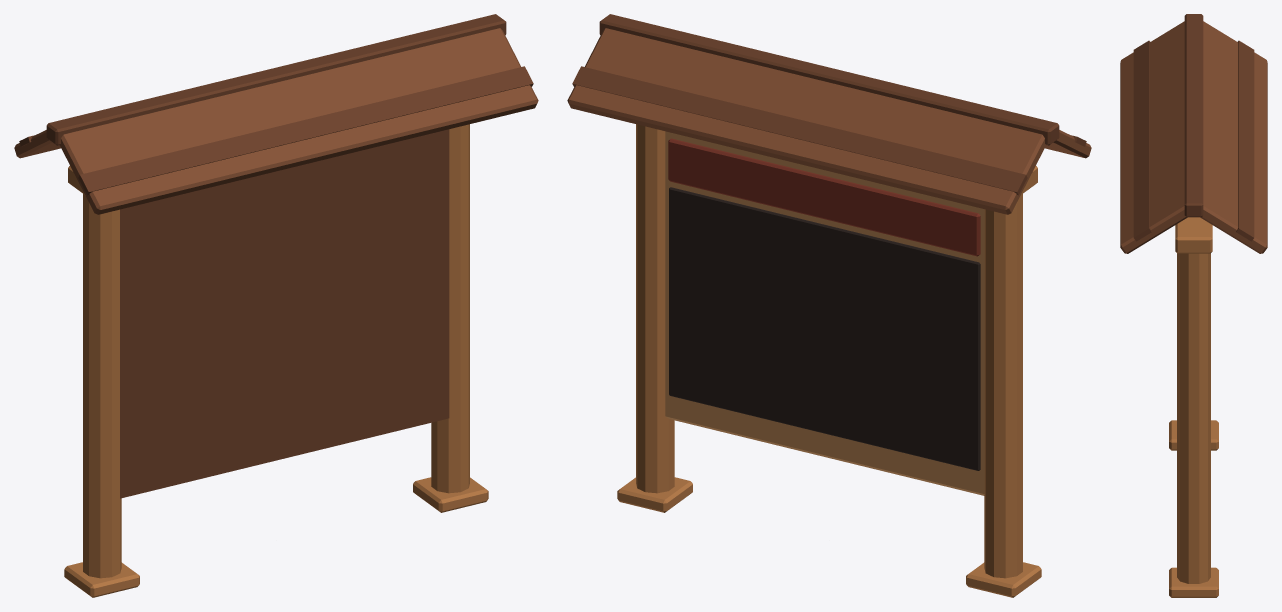
The model's file is leaderboard.glb.
3 renders of one model, left to right at view 1: azimuth 30°, elevation 25°; view 2: azimuth 150°, elevation 25°; view 3: azimuth 270°, elevation 25°, orthographic. The views are drawn at different scales.
Visible parts, largest first — view 1: WoodPlanks__683E28, WoodPlanks__804E32, Wood__B07442; view 2: SmoothPlastic__2C221E, WoodPlanks__804E32, Wood__B07442, WoodPlanks__683E28, WoodPlanks__C48C58, WoodPlanks__783224; view 3: WoodPlanks__804E32, Wood__B07442, WoodPlanks__683E28.
Part boxes in pixels (box(x1,y1,x2,y2)): WoodPlanks__683E28: box(19, 14, 533, 498); WoodPlanks__804E32: box(14, 28, 538, 214); Wood__B07442: box(64, 124, 488, 597); SmoothPlastic__2C221E: box(669, 187, 980, 470); WoodPlanks__804E32: box(567, 28, 1091, 214); Wood__B07442: box(617, 124, 1041, 597); WoodPlanks__683E28: box(572, 14, 1086, 195); WoodPlanks__C48C58: box(665, 131, 984, 495); WoodPlanks__783224: box(668, 138, 980, 256); WoodPlanks__804E32: box(1120, 21, 1267, 253); Wood__B07442: box(1169, 217, 1218, 597); WoodPlanks__683E28: box(1133, 14, 1254, 241).
Size of the model in its own units: 14.5 by 14.4 by 4.73.
